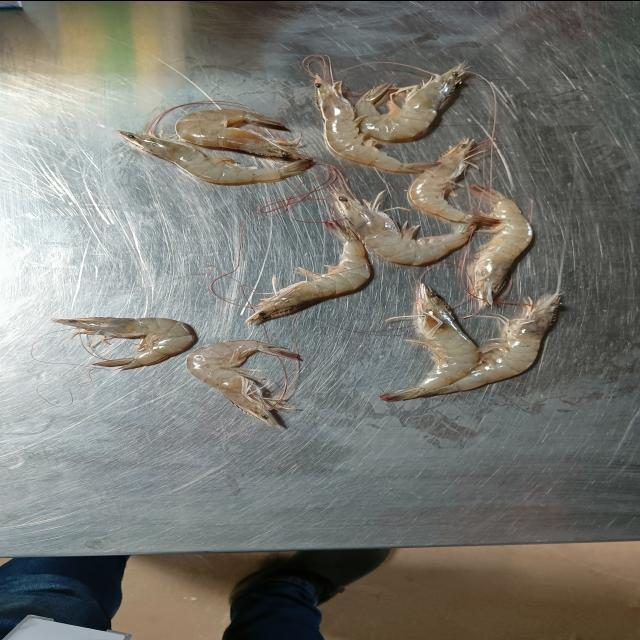shrimp: (416, 292, 560, 396), (246, 220, 370, 324), (314, 74, 438, 172), (381, 282, 480, 400), (330, 188, 476, 266), (117, 130, 314, 185), (186, 339, 299, 428), (354, 62, 465, 142), (407, 138, 498, 224), (467, 184, 531, 306), (53, 316, 195, 369), (175, 109, 303, 160)
